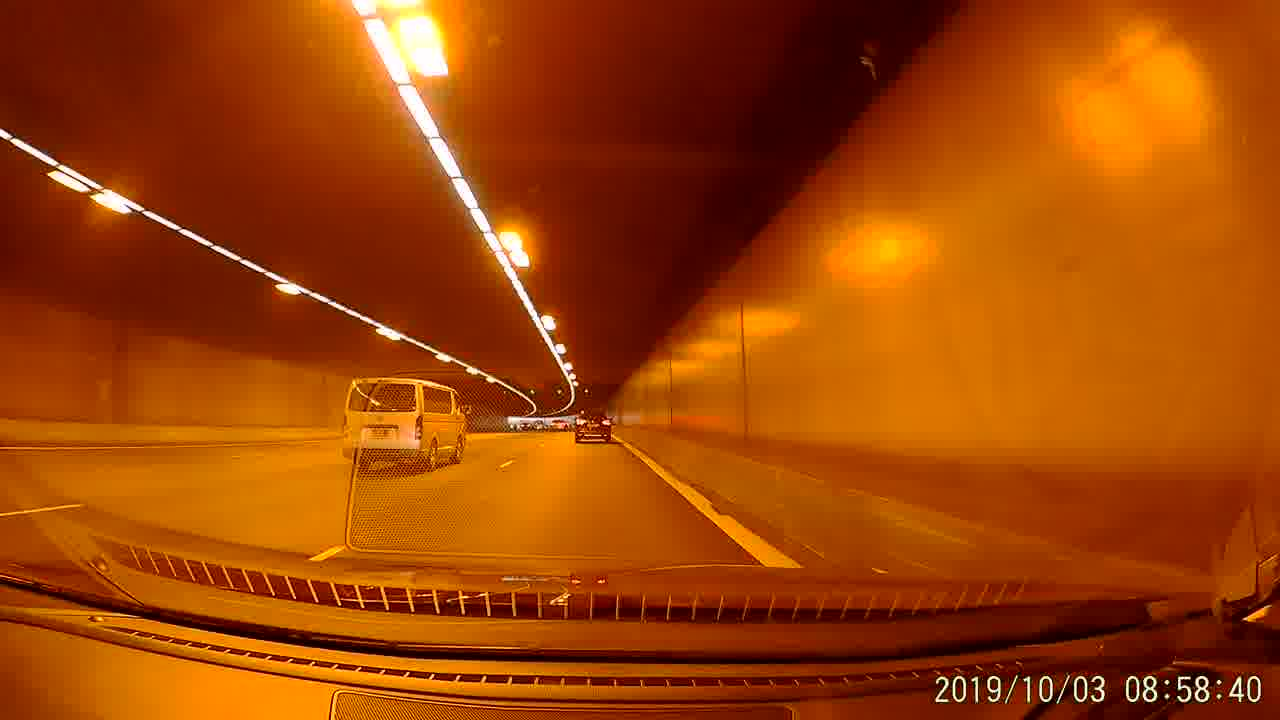car: (573, 409, 610, 441)
